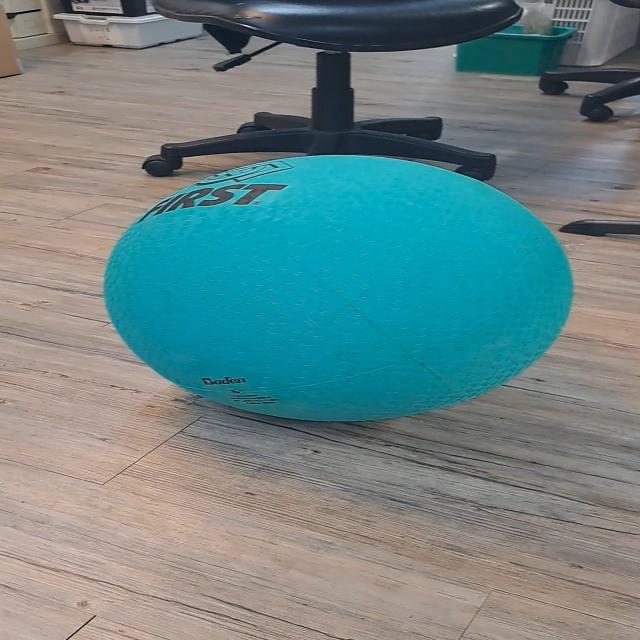ALGAE: (100, 153, 575, 423)
